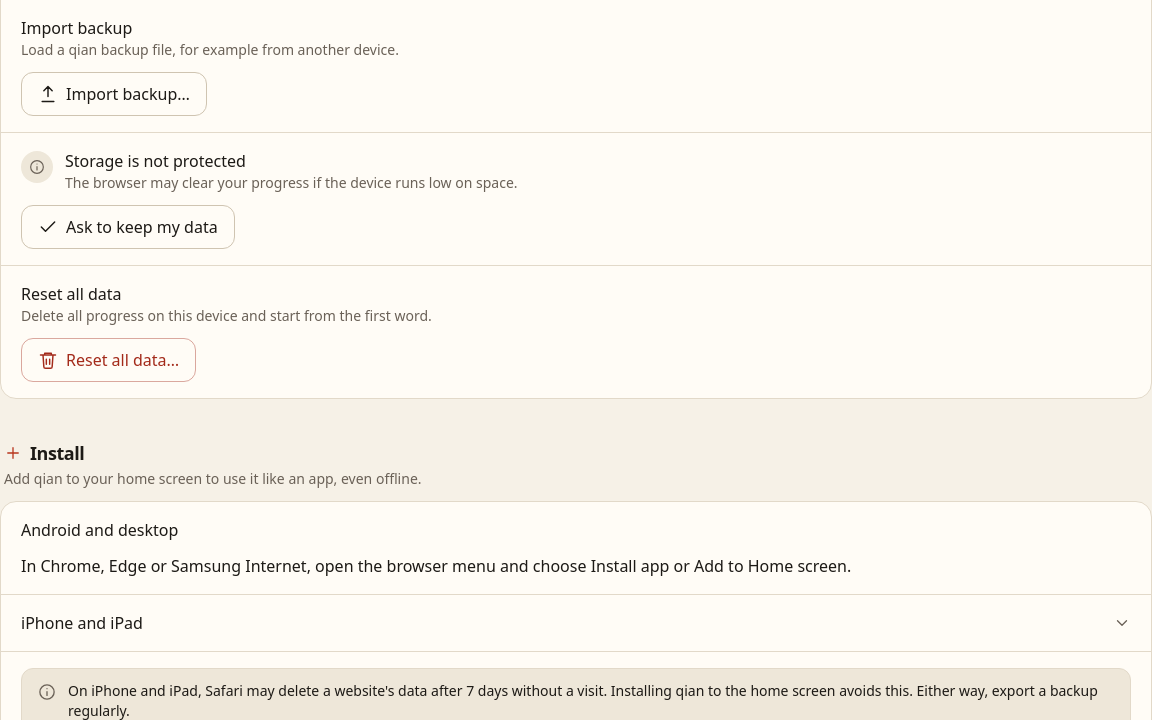
Test case: Settings: reset › cancelling does not reset
The width and height of the screenshot is (1152, 720).
(page scrolled)
Click the button "Reset all data…" at [109, 360], box [21, 338, 196, 382]
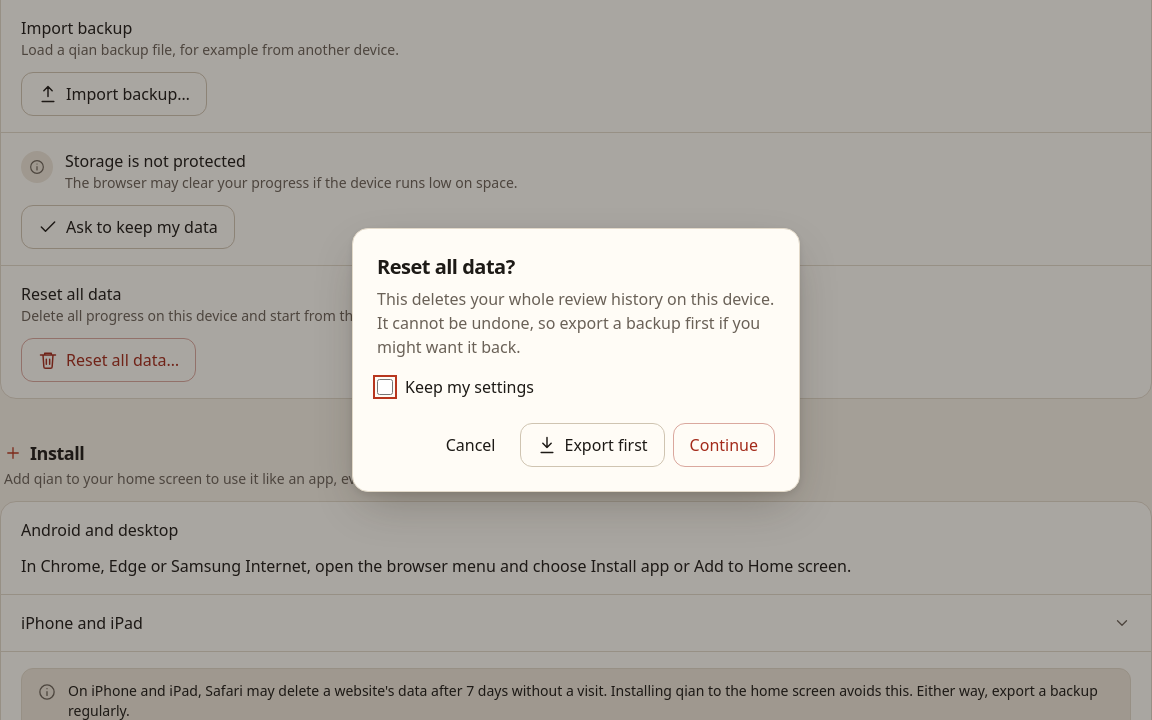
Click the button "Cancel" at [471, 445], box [430, 423, 512, 467]
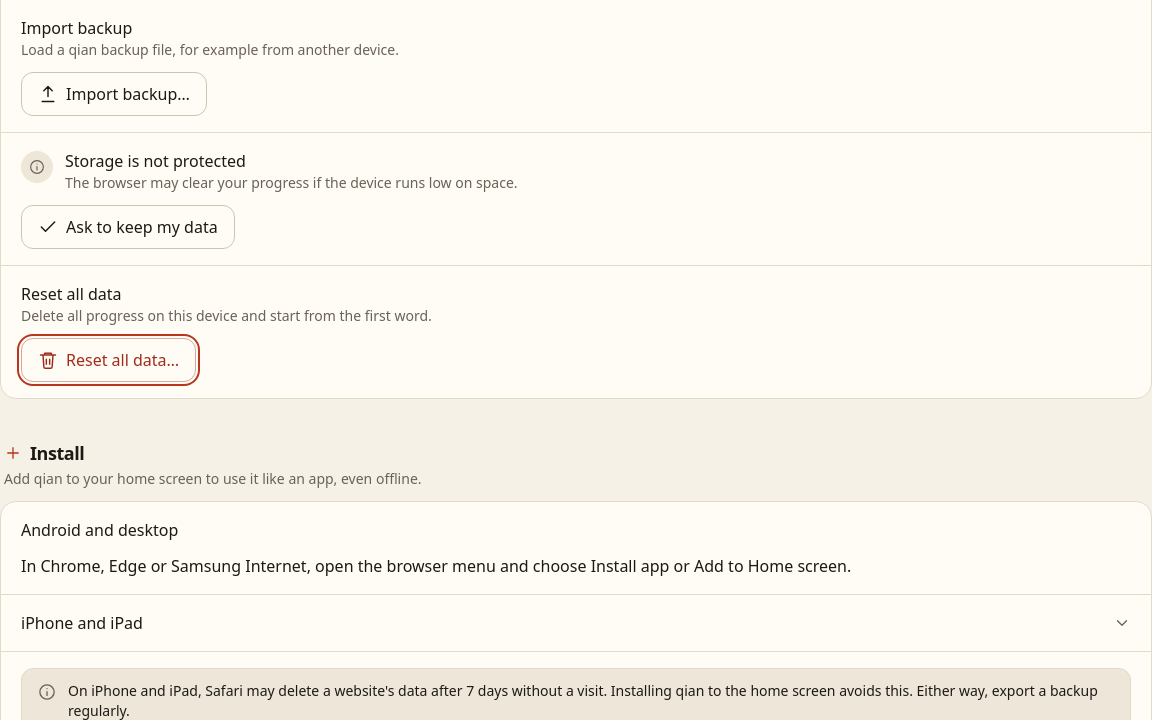
Result: the dialog is gone
